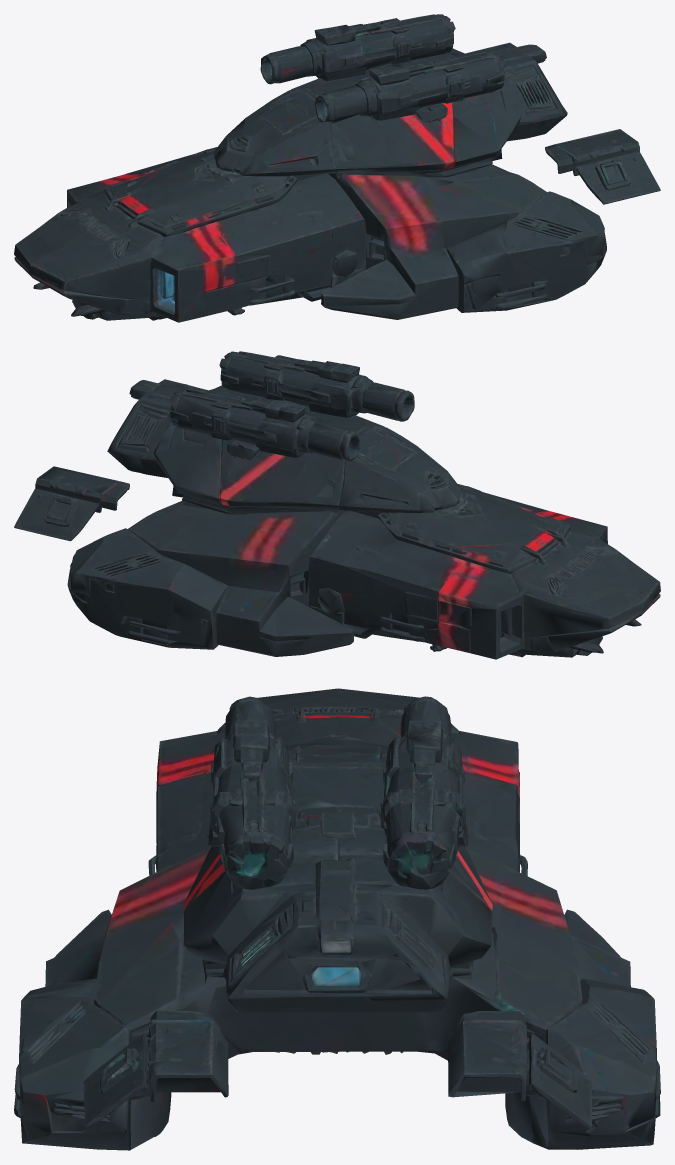
Rendered from mx_veh_tank.glb.
The picture shows the model from 3 angles, top to bottom: view 1: azimuth 30°, elevation 25°; view 2: azimuth 150°, elevation 25°; view 3: azimuth 270°, elevation 25°; orthographic projection. The views are drawn at different scales.
Bounding box in the file's own units: 1.9 × 0.7016 × 1.19.
Materials: 1 (1 with a texture image).
